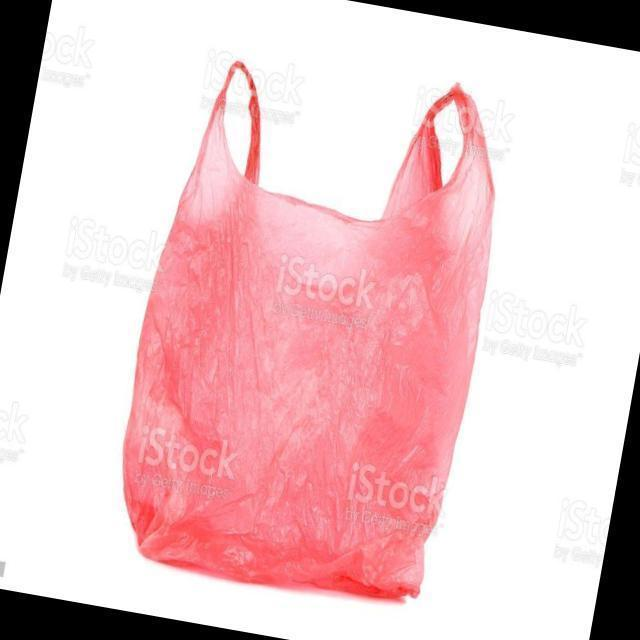Plastic_Bag: (106, 37, 522, 616)
